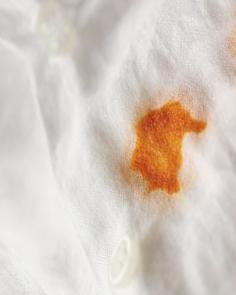stain: (122, 100, 210, 208)
